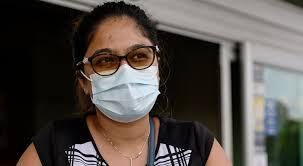mask: (87, 63, 162, 121)
sunglasses: (84, 44, 158, 78)
